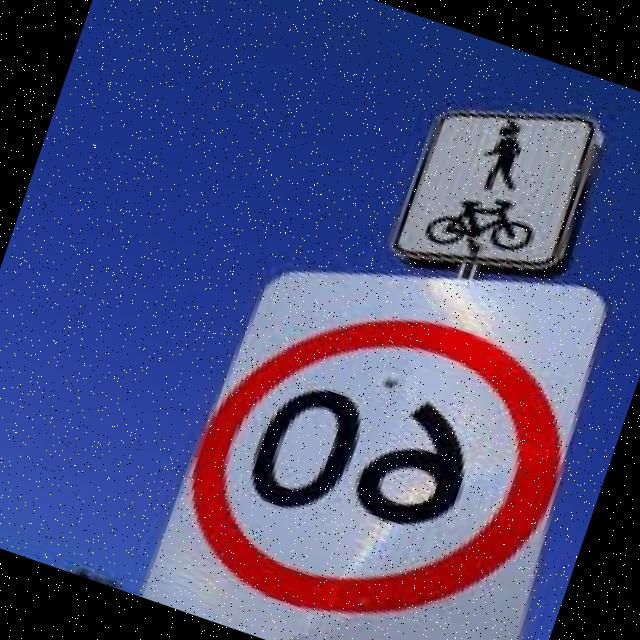speed_limit_60: (143, 235, 606, 640)
